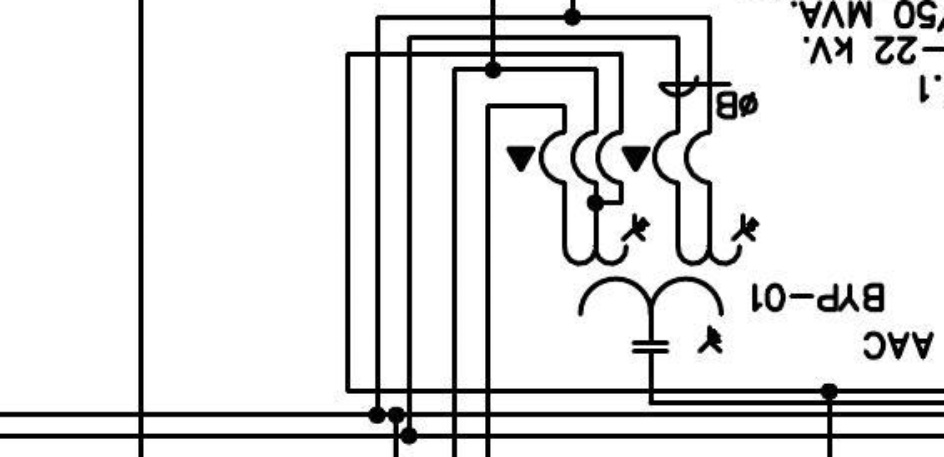115_cvt_3p: (561, 212, 761, 354)
